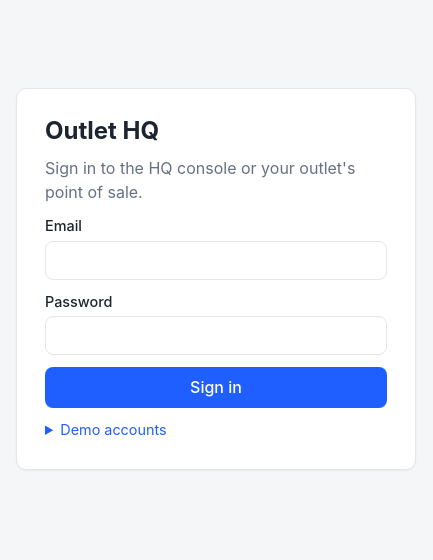
Test: LoginPage › fills a demo account from its button
What coordinates should you click on to do the following:
click the heading "Demo accounts"
I would click on:
 (114, 430)
Its box is x1=60 y1=422 x2=167 y2=438.
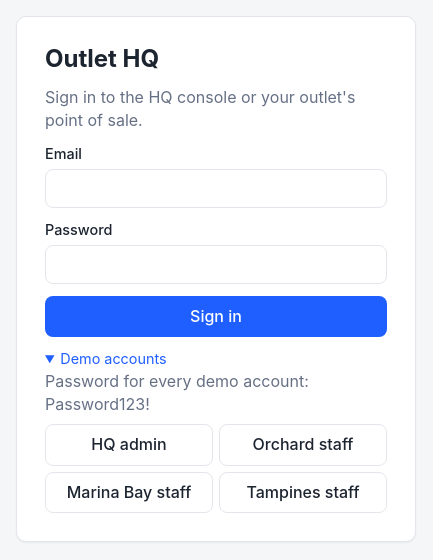
What coordinates should you click on to do the following:
click the button "Orchard staff"
I would click on:
 (303, 445)
Its box is x1=219 y1=424 x2=387 y2=466.
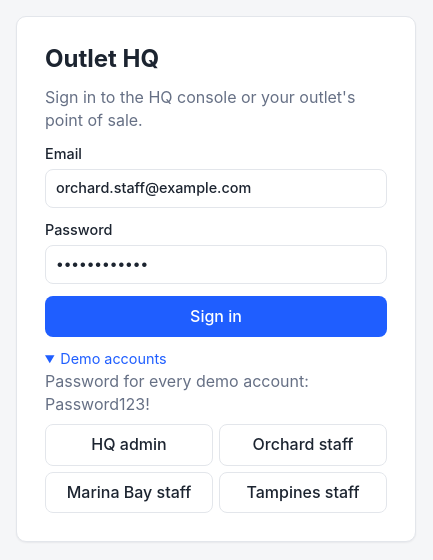
Now the field labelled "Email" holds "orchard.staff@example.com", box x1=45 y1=169 x2=387 y2=208
Now the password field labelled "Password" holds "Password123!", box x1=45 y1=245 x2=387 y2=284
